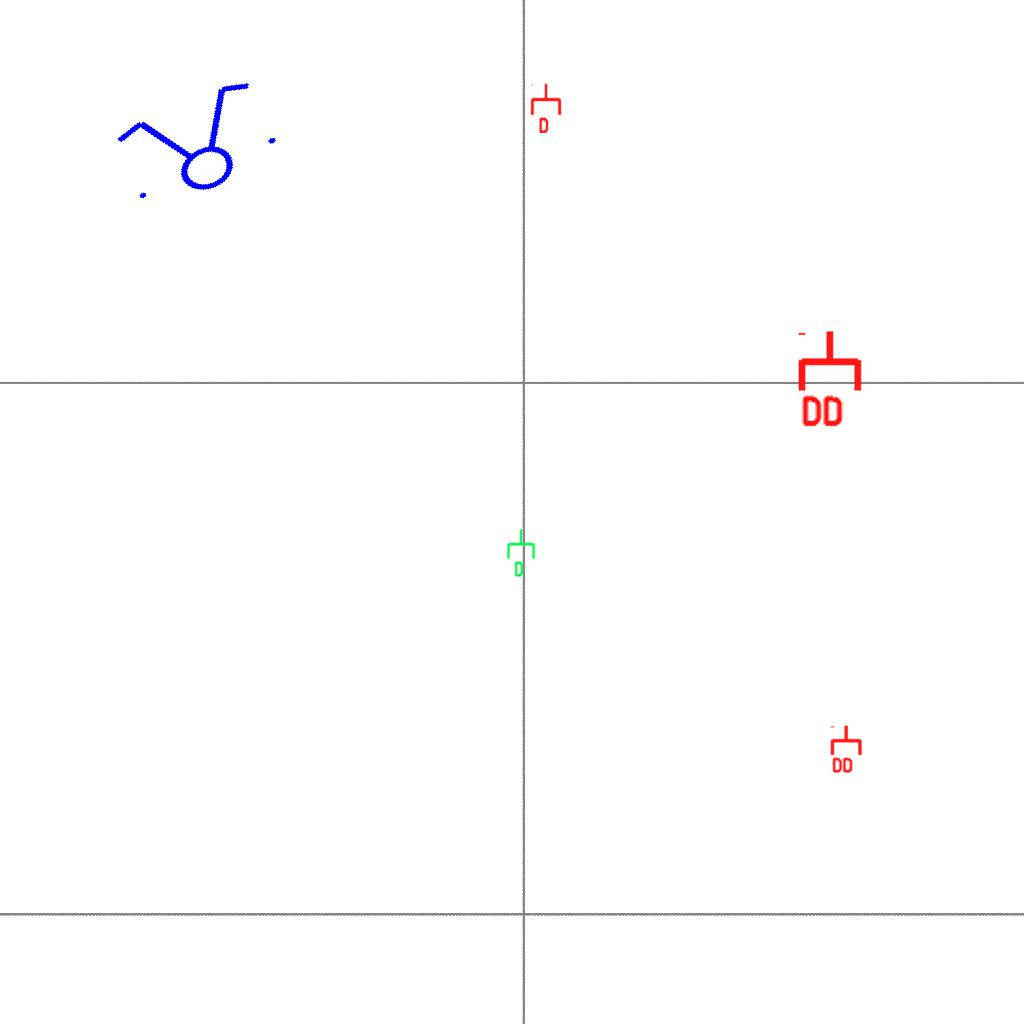Datenanschluss_einfach: (529, 83, 563, 133), (505, 528, 539, 578)
Datenanschluss_zweifach: (797, 328, 866, 431), (830, 724, 864, 775)
Serienschalter: (99, 67, 293, 223)
